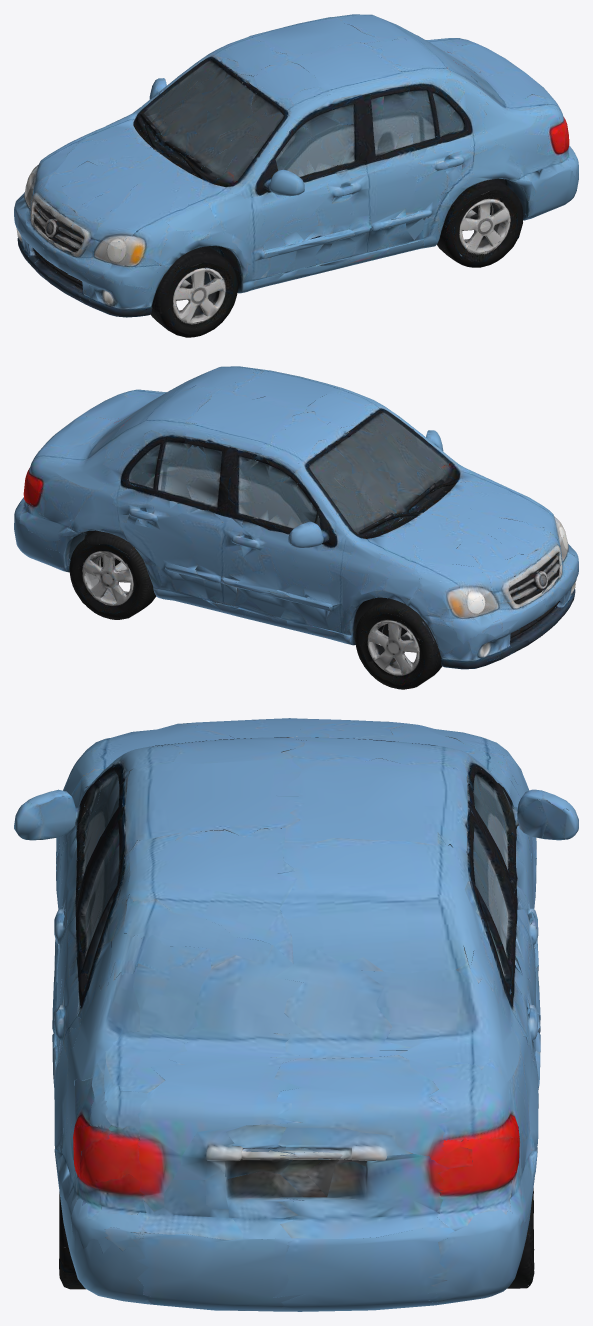
The model's file is car_sedan.glb.
The picture shows the model from 3 angles, top to bottom: view 1: azimuth 30°, elevation 25°; view 2: azimuth 150°, elevation 25°; view 3: azimuth 270°, elevation 25°; orthographic projection. The views are drawn at different scales.
Parts seen in each view (by area): view 1: Mesh_0; view 2: Mesh_0; view 3: Mesh_0.
Part boxes in pixels (bbox=[...]): Mesh_0: bbox=[14, 14, 578, 337]; Mesh_0: bbox=[14, 366, 578, 689]; Mesh_0: bbox=[14, 718, 578, 1311].
Bounding box in the file's own units: 4.3 × 1.65 × 2.14.
1 material, 1 textured.
